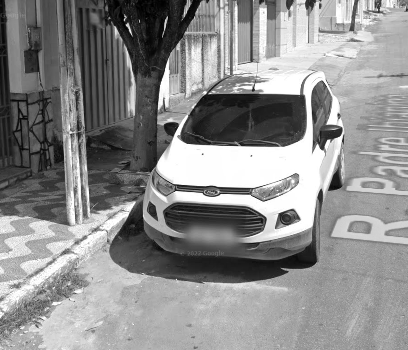car: (139, 55, 350, 279)
